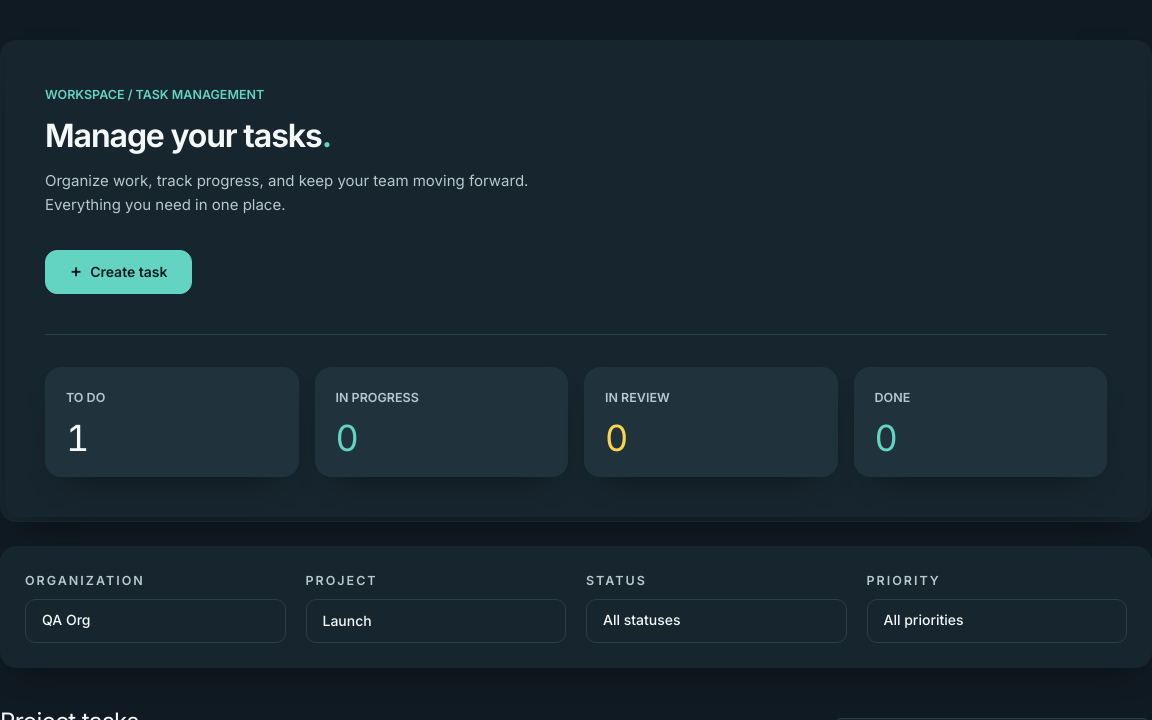
it: task permission controls › allows ADMIN to open task creation
Click the button "+ Create task". click: (119, 272)
box: [45,250,192,294]
(page scrolled)
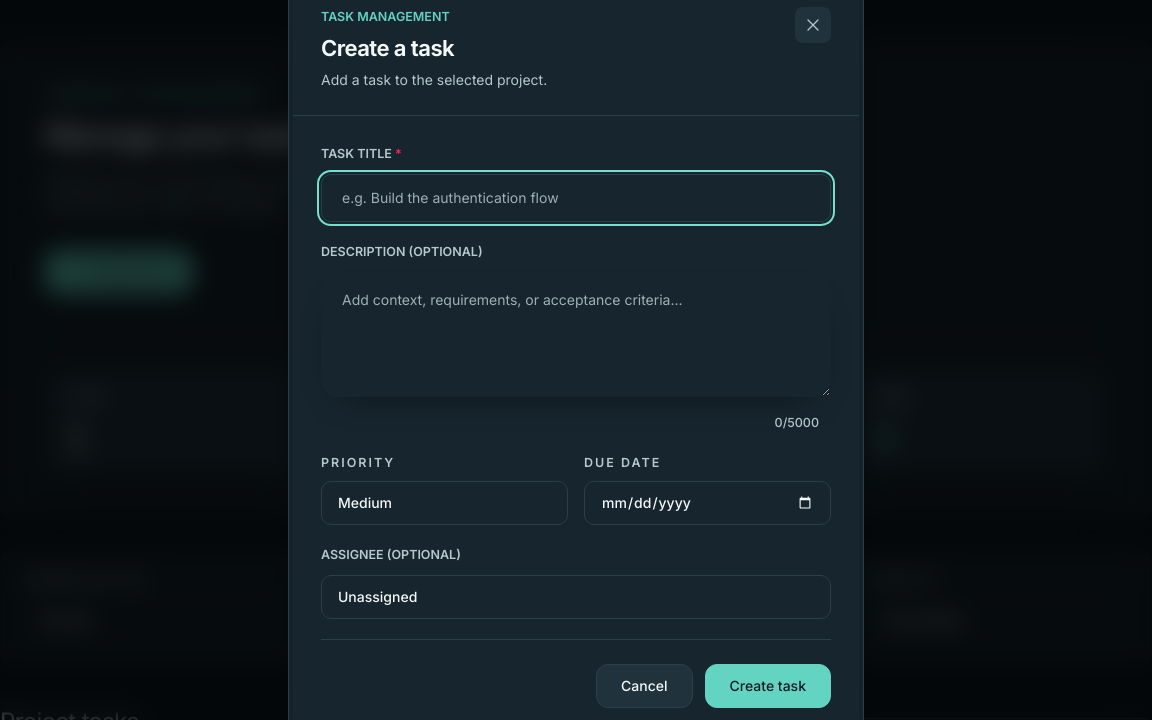
Expected: the dialog "Create a task" is shown, [288,0,864,719]
